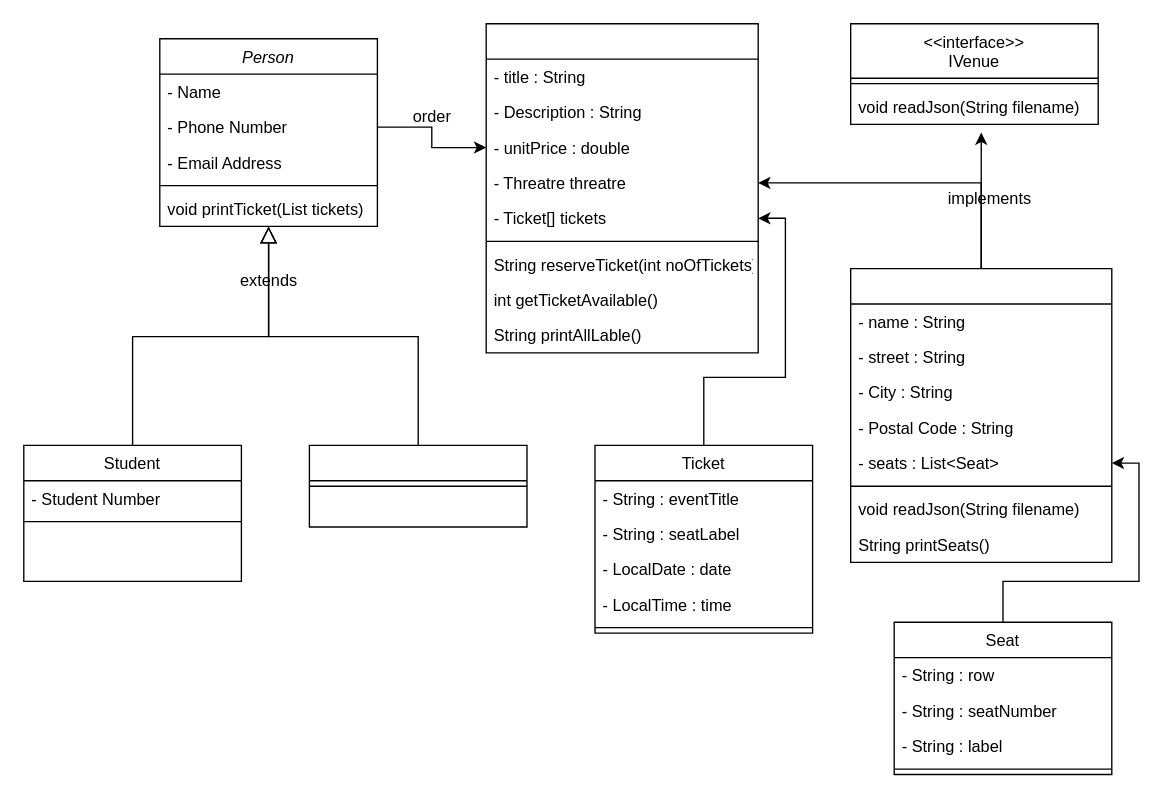
The diagram is 1174 pixels wide and 798 high, and some of its shapes have lost their labels. Here are the shapes that lost their labels. From the top down, the box of each, then its label:
(485, 22, 758, 353): Event
(849, 267, 1112, 562): Theatre
(308, 444, 527, 527): Customer
